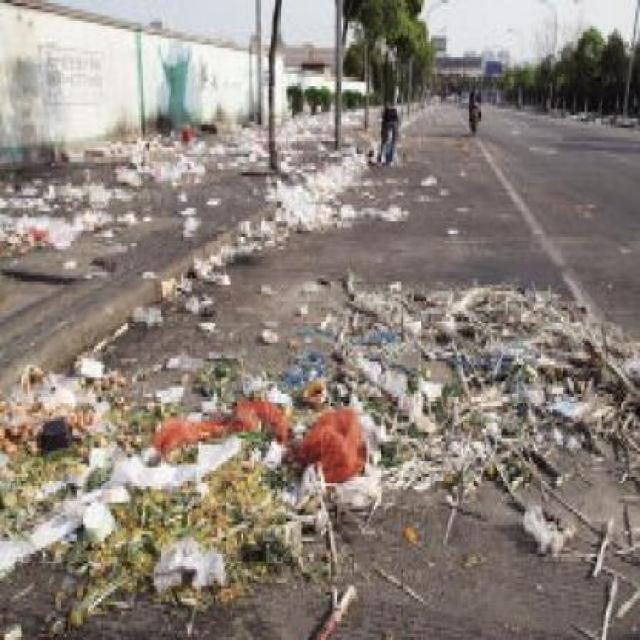garbage: (0, 368, 638, 636), (159, 275, 639, 390), (0, 128, 128, 282), (131, 109, 212, 212), (276, 157, 370, 237), (376, 160, 457, 243), (218, 106, 280, 158), (287, 89, 336, 140)
